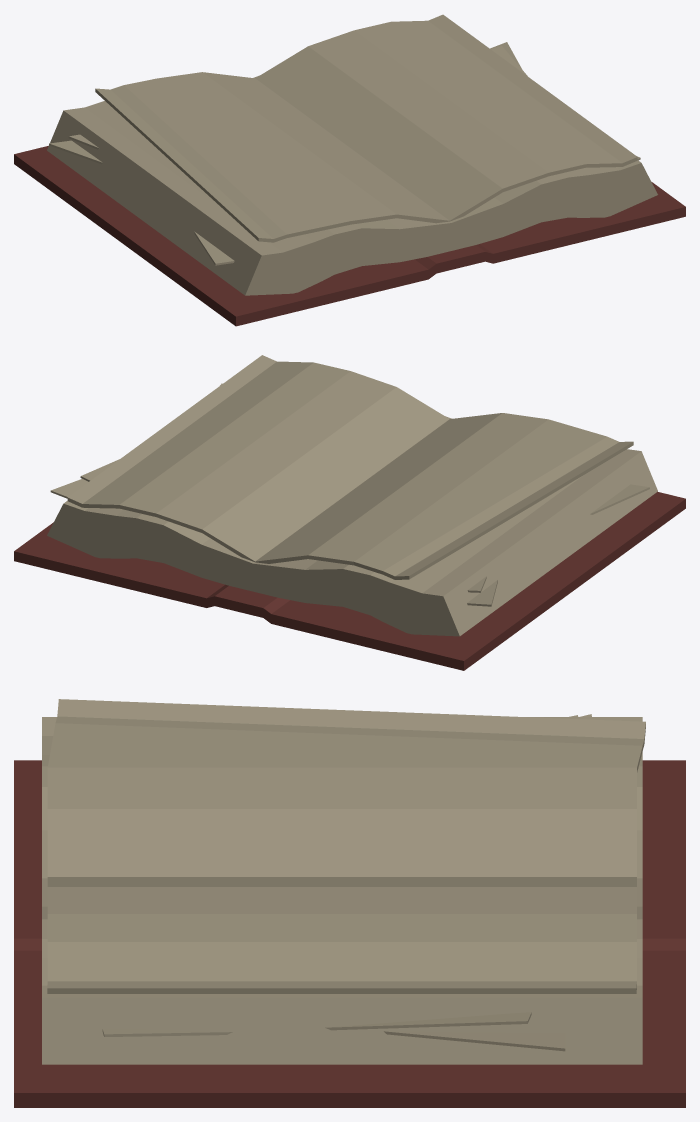
File: book1_open.glb
3 views of the same model, one above another, from view 1: azimuth 30°, elevation 25°; view 2: azimuth 150°, elevation 25°; view 3: azimuth 270°, elevation 25° (orthographic). The views are drawn at different scales.
Visible parts, largest first — view 1: Book1_Open; view 2: Book1_Open; view 3: Book1_Open.
Boxes of the visible parts, box(x1,y1,x2,y2) form: Book1_Open: box(14, 14, 685, 326); Book1_Open: box(14, 355, 685, 670); Book1_Open: box(14, 699, 685, 1107).
Bounding box in the file's own units: 0.873 × 0.1263 × 0.7401.
